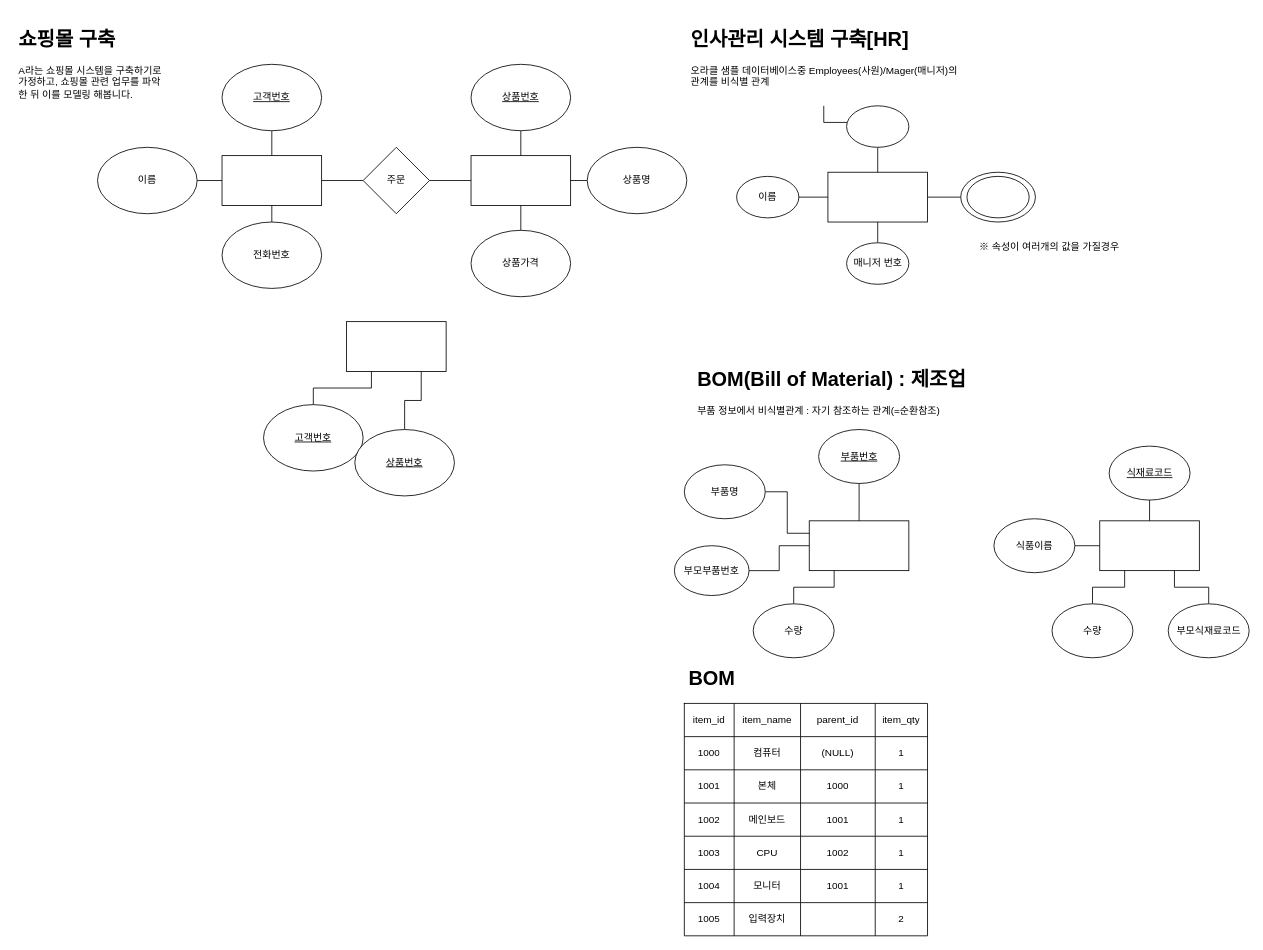
This 1263x950 diagram has some shape labels left out. Each missing label, with the centre of its shape:
"(고객)주문상품" goes at point 396,346.
"고객" goes at point 271,180.
"부품" goes at point 858,545.
"사번" goes at point 877,126.
"사원" goes at point 877,196.
"상품" goes at point 520,180.
"식재료" goes at point 1149,545.
"취미" goes at point 997,197.
